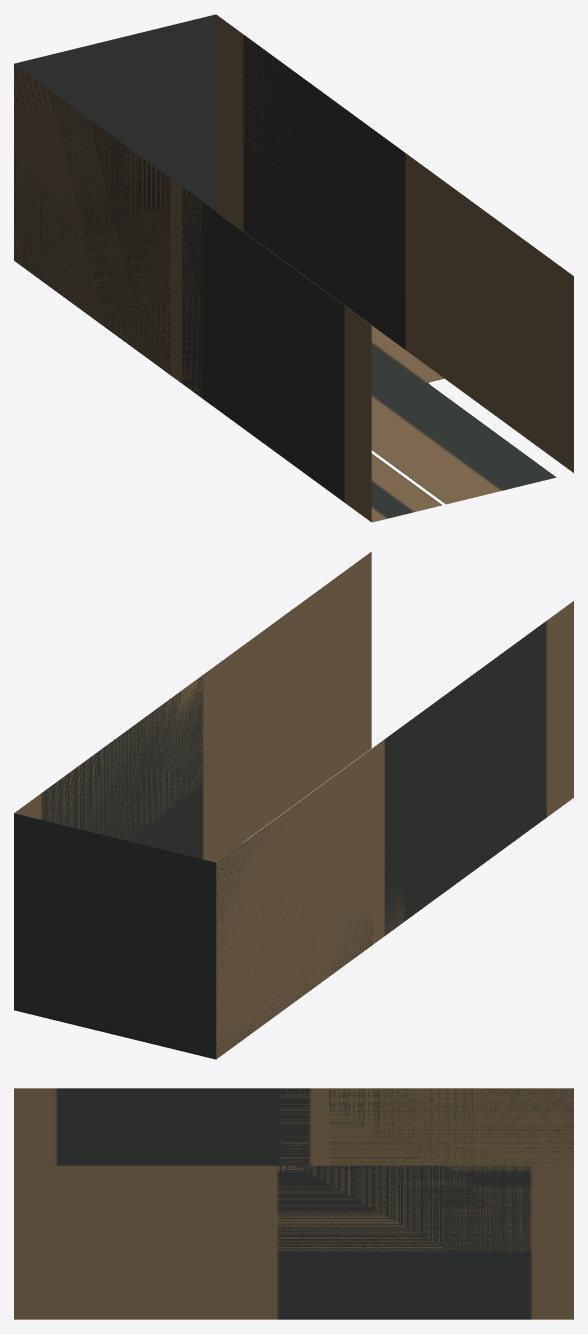
The model's file is section-5.obj.
3 renders of one model, top to bottom at view 1: azimuth 30°, elevation 25°; view 2: azimuth 150°, elevation 25°; view 3: azimuth 270°, elevation 25°, orthographic. The views are drawn at different scales.
Bounding box in the file's own units: 0.602 × 0.5606 × 1.85.
